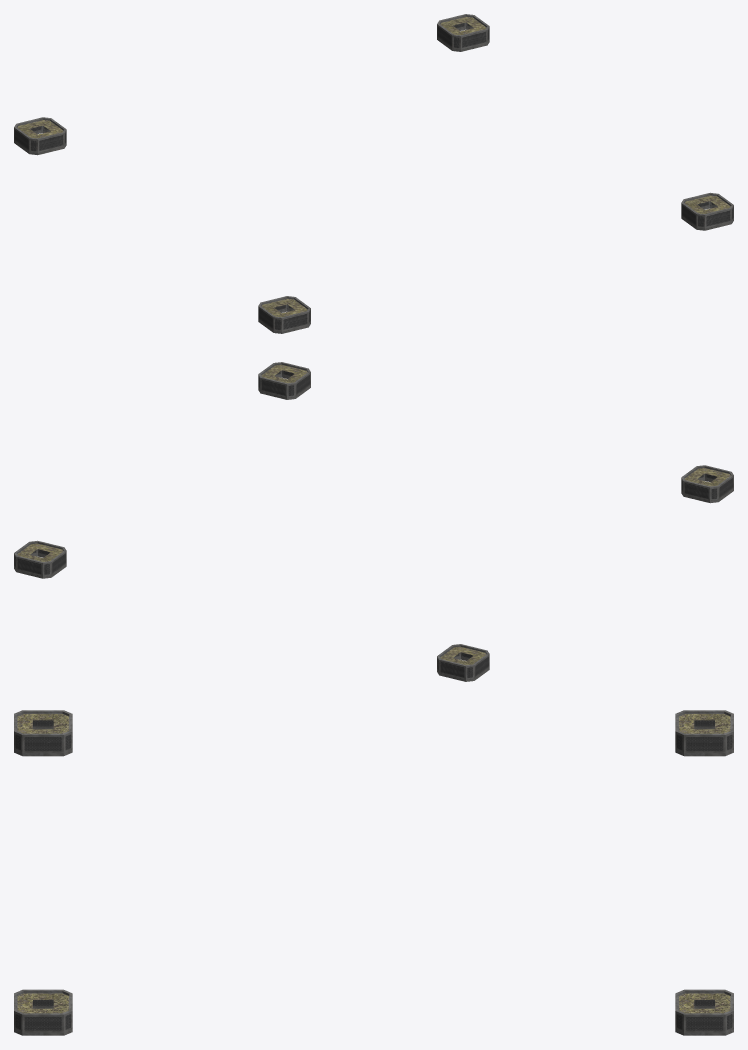
Rendered from Planter.glb.
3 views of the same model, one above another, from view 1: azimuth 30°, elevation 25°; view 2: azimuth 150°, elevation 25°; view 3: azimuth 270°, elevation 25° (orthographic). The views are drawn at different scales.
Parts seen in each view (by area): view 1: Low.003; view 2: Low.003; view 3: Low.003.
Boxes of the visible parts, x1,y1,x2,y2 form: Low.003: (14,14,733,333); Low.003: (14,362,733,681); Low.003: (14,710,733,1035).
Size of the model in its own units: 19.59 by 0.6372 by 19.59.
1 material, 1 textured.
